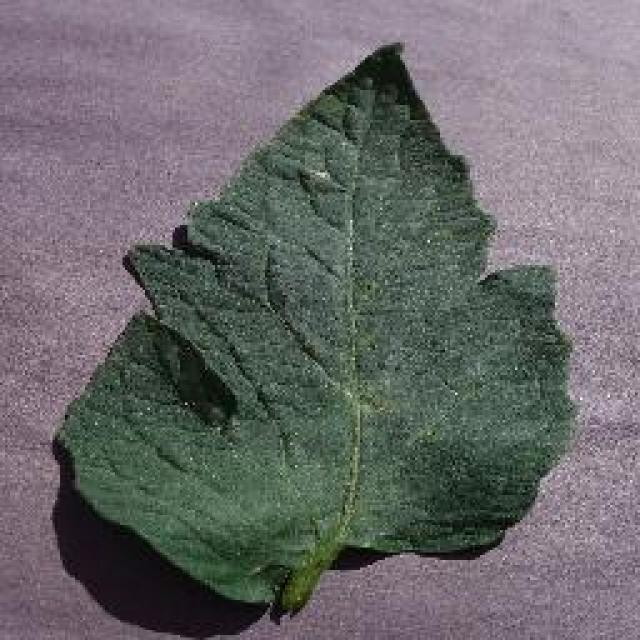Tomato Septoria spot leaf: (56, 39, 574, 606)
